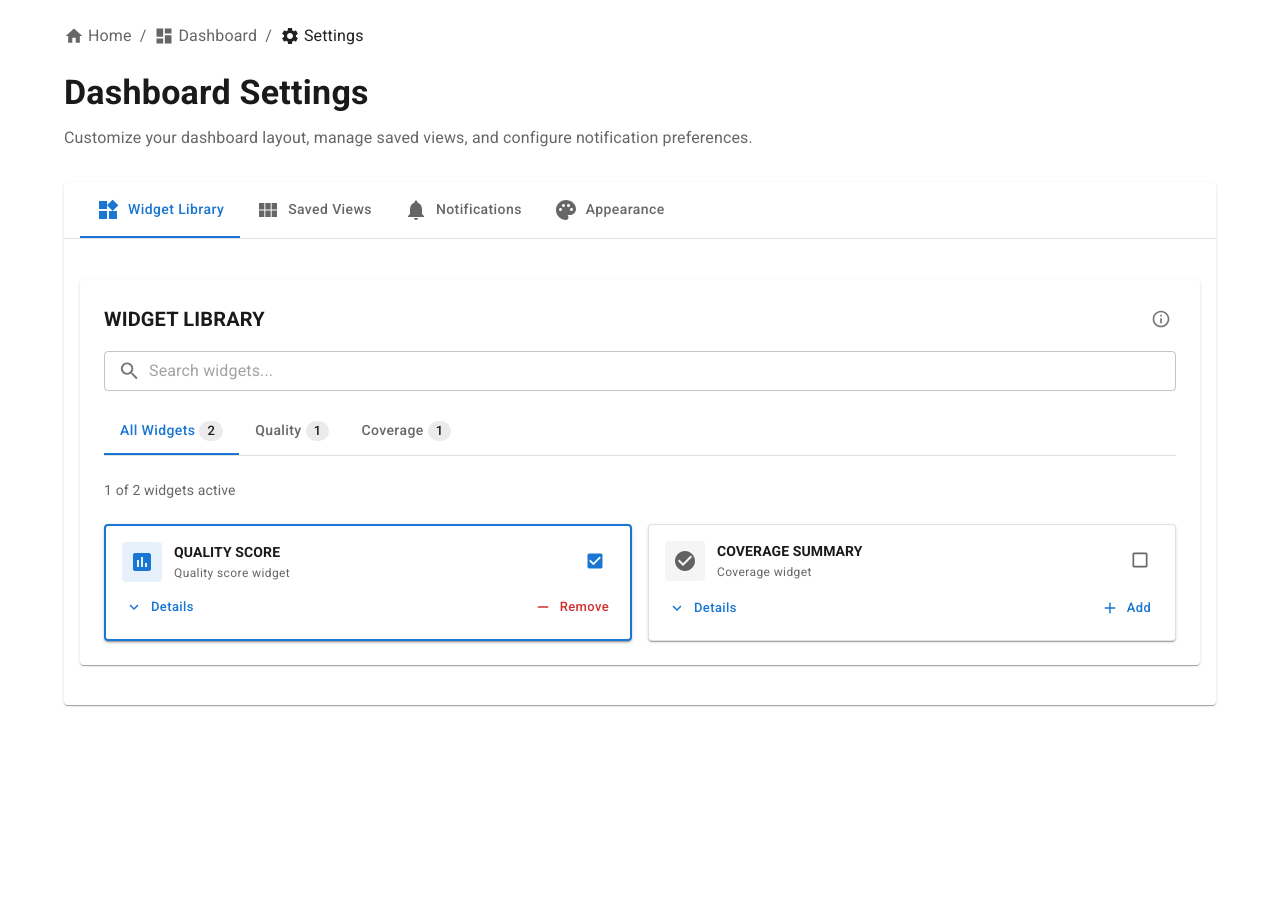
SavedViewsContent › should show "Current View:" label
Click the tab "Saved Views" at (314, 210), box [240, 182, 388, 238]
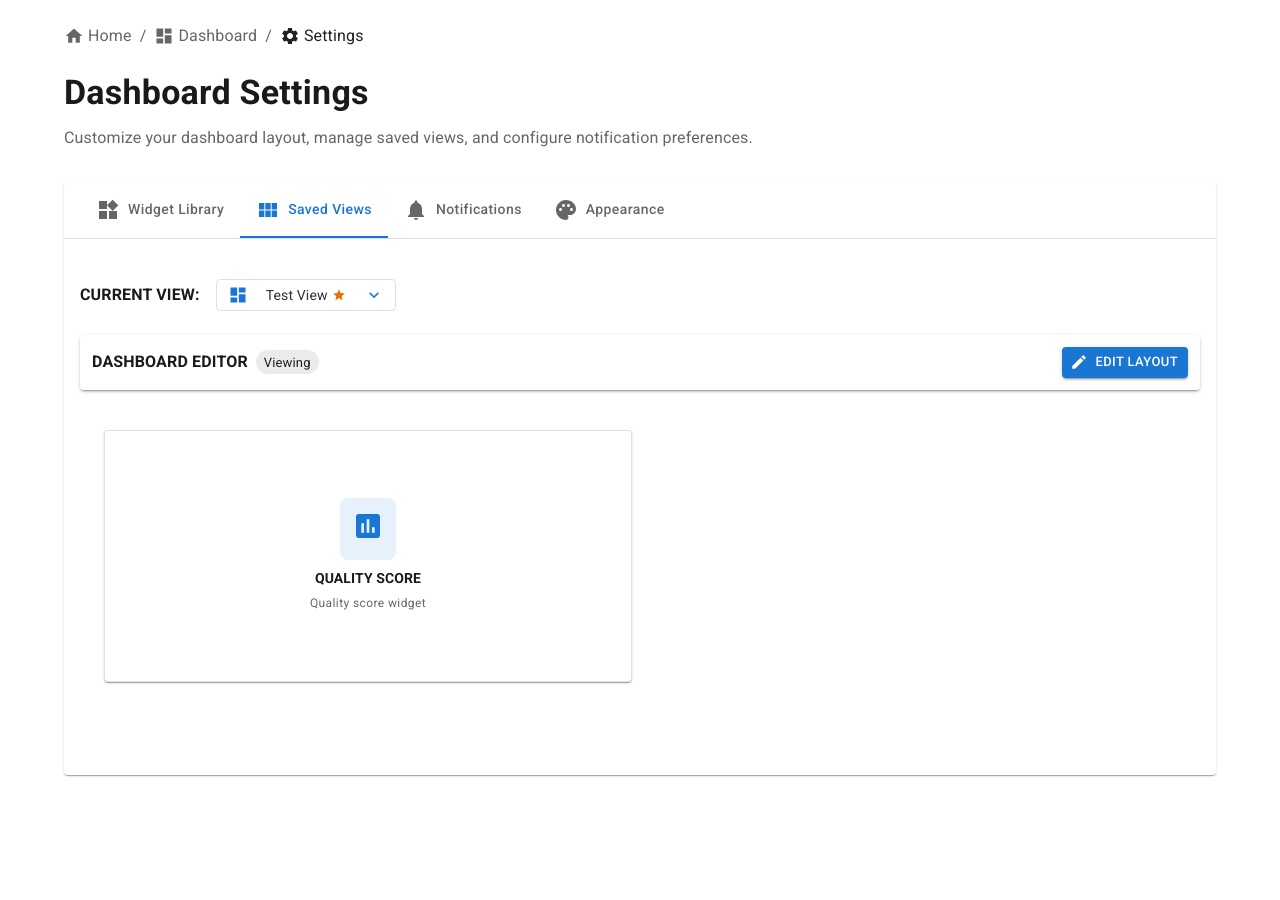
Expected: the heading "Current View:" is shown, [80, 281, 200, 309]
